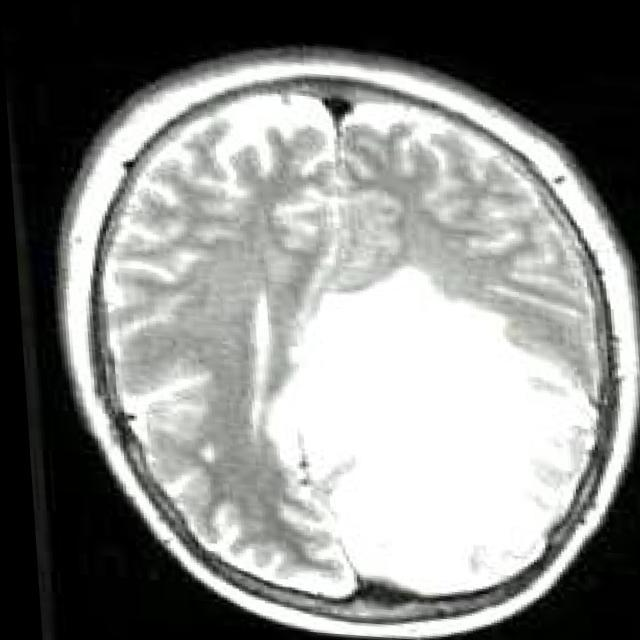Tumor: (262, 260, 584, 586)
